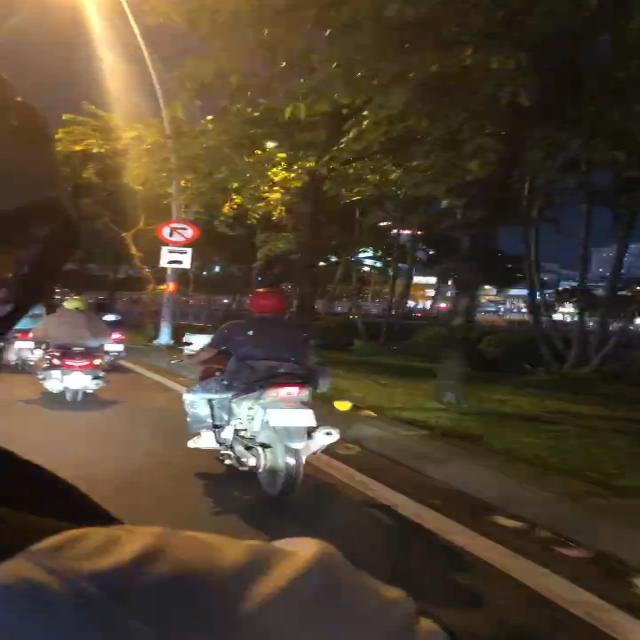Bien bao cam re phai: (156, 217, 198, 246)
